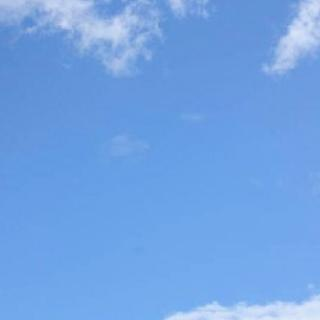Cirrocumulus: (0, 0, 320, 82)
